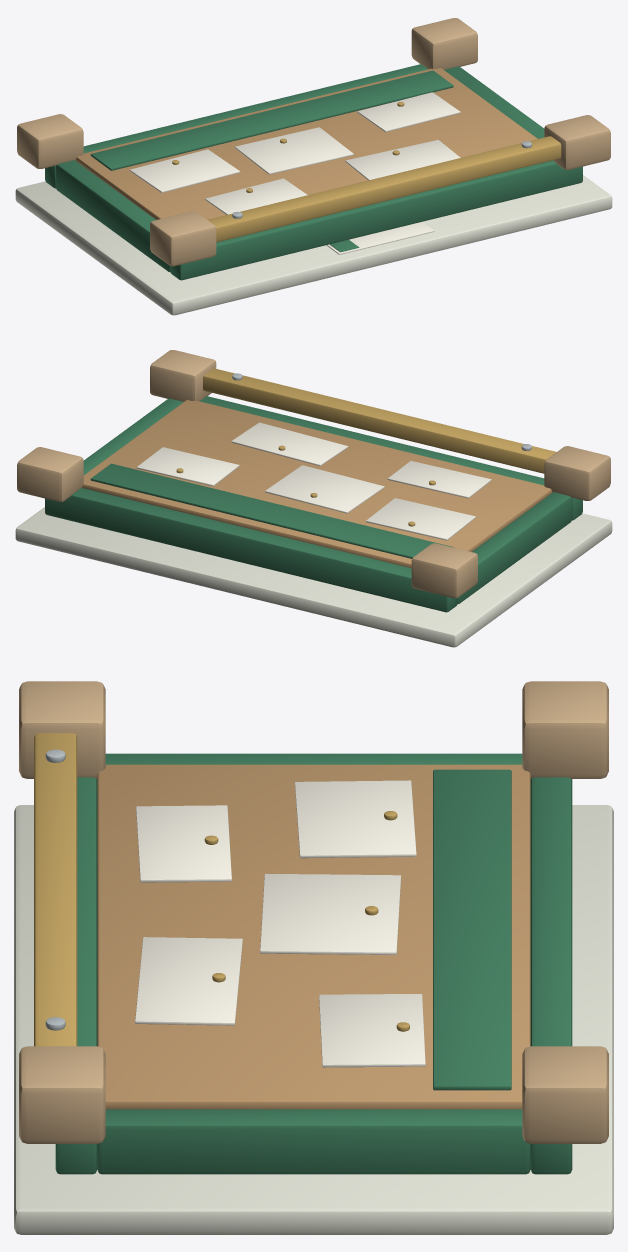
File: delivery_fixture_product_events_board.glb
3 renders of one model, top to bottom at view 1: azimuth 30°, elevation 25°; view 2: azimuth 150°, elevation 25°; view 3: azimuth 270°, elevation 25°, orthographic. The views are drawn at different scales.
Parts seen in each view (by area): view 1: BOARD_PACKING_PAD, EVENTS_BOARD_CORK_FACE, EVENTS_BOARD, BOARD_FRAME_SOUTH, BOARD_DETACHED_RAIL, EVENTS_BOARD_HEADER, BOARD_FRAME_WEST, BOARD_CORNER_BLOCK_SW, BOARD_CORNER_BLOCK_NW, BOARD_CORNER_BLOCK_NE, BOARD_FRAME_NORTH, BOARD_CORNER_BLOCK_SE (+2 smaller); view 2: EVENTS_BOARD_CORK_FACE, BOARD_PACKING_PAD, BOARD_FRAME_NORTH, EVENTS_BOARD, BOARD_DETACHED_RAIL, EVENTS_BOARD_HEADER, BOARD_FRAME_WEST, BOARD_CORNER_BLOCK_NW, BOARD_CORNER_BLOCK_NE, BOARD_CORNER_BLOCK_SW, BOARD_FRAME_SOUTH, BOARD_CORNER_BLOCK_SE (+1 smaller); view 3: EVENTS_BOARD_CORK_FACE, BOARD_PACKING_PAD, EVENTS_BOARD, BOARD_FRAME_EAST, EVENTS_BOARD_HEADER, BOARD_DETACHED_RAIL, BOARD_FRAME_NORTH, BOARD_CORNER_BLOCK_NE, BOARD_CORNER_BLOCK_SE, BOARD_CORNER_BLOCK_NW, BOARD_FRAME_SOUTH, BOARD_CORNER_BLOCK_SW (+1 smaller).
Boxes of the visible parts, x1=… form: BOARD_PACKING_PAD: x1=15, y1=175, x2=612, y2=315; EVENTS_BOARD_CORK_FACE: x1=75, y1=68, x2=537, y2=219; EVENTS_BOARD: x1=129, y1=92, x2=460, y2=214; BOARD_FRAME_SOUTH: x1=170, y1=160, x2=582, y2=280; BOARD_DETACHED_RAIL: x1=207, y1=136, x2=561, y2=242; EVENTS_BOARD_HEADER: x1=90, y1=70, x2=453, y2=170; BOARD_FRAME_WEST: x1=56, y1=160, x2=170, y2=272; BOARD_CORNER_BLOCK_SW: x1=150, y1=211, x2=216, y2=266; BOARD_CORNER_BLOCK_NW: x1=17, y1=114, x2=83, y2=168; BOARD_CORNER_BLOCK_NE: x1=411, y1=18, x2=477, y2=69; BOARD_FRAME_NORTH: x1=45, y1=64, x2=427, y2=188; BOARD_CORNER_BLOCK_SE: x1=544, y1=115, x2=610, y2=169; EVENTS_BOARD_CORK_FACE: x1=82, y1=400, x2=552, y2=568; BOARD_PACKING_PAD: x1=15, y1=507, x2=612, y2=647; BOARD_FRAME_NORTH: x1=45, y1=488, x2=457, y2=612; EVENTS_BOARD: x1=136, y1=422, x2=491, y2=540; BOARD_DETACHED_RAIL: x1=203, y1=368, x2=556, y2=473; EVENTS_BOARD_HEADER: x1=90, y1=463, x2=453, y2=558; BOARD_FRAME_WEST: x1=457, y1=492, x2=571, y2=604; BOARD_CORNER_BLOCK_NW: x1=411, y1=543, x2=477, y2=598; BOARD_CORNER_BLOCK_NE: x1=17, y1=447, x2=83, y2=501; BOARD_CORNER_BLOCK_SW: x1=544, y1=446, x2=610, y2=500; BOARD_FRAME_SOUTH: x1=200, y1=396, x2=582, y2=520; BOARD_CORNER_BLOCK_SE: x1=150, y1=350, x2=216, y2=401; EVENTS_BOARD_CORK_FACE: x1=97, y1=764, x2=530, y2=1109; BOARD_PACKING_PAD: x1=14, y1=805, x2=613, y2=1234; EVENTS_BOARD: x1=135, y1=780, x2=425, y2=1067; BOARD_FRAME_EAST: x1=97, y1=1109, x2=530, y2=1174; EVENTS_BOARD_HEADER: x1=433, y1=769, x2=511, y2=1090; BOARD_DETACHED_RAIL: x1=34, y1=733, x2=77, y2=1046; BOARD_FRAME_NORTH: x1=530, y1=777, x2=572, y2=1174; BOARD_CORNER_BLOCK_NE: x1=522, y1=1046, x2=608, y2=1143; BOARD_CORNER_BLOCK_SE: x1=19, y1=1046, x2=105, y2=1143; BOARD_CORNER_BLOCK_NW: x1=522, y1=681, x2=608, y2=778; BOARD_FRAME_SOUTH: x1=55, y1=777, x2=97, y2=1174; BOARD_CORNER_BLOCK_SW: x1=19, y1=681, x2=105, y2=778.
Bounding box in the file's own units: 0.58 × 0.1 × 0.36.
